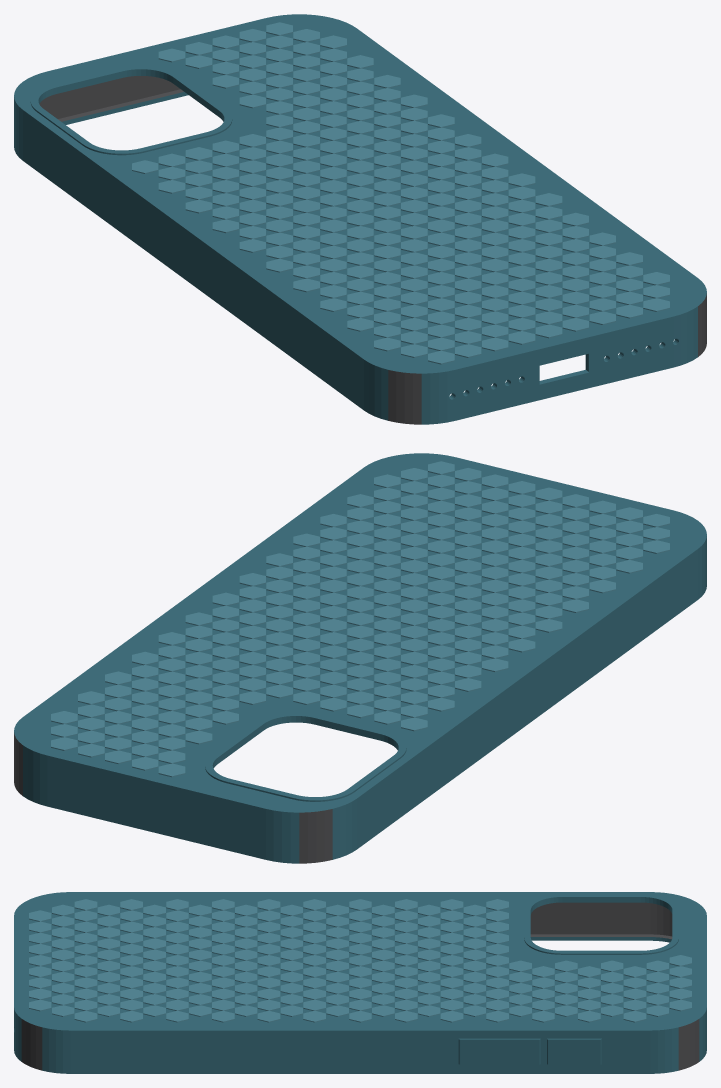
File: kilif-budget-altigen-okyanus.glb
The picture shows the model from 3 angles, top to bottom: view 1: azimuth 30°, elevation 25°; view 2: azimuth 150°, elevation 25°; view 3: azimuth 270°, elevation 25°; orthographic projection. The views are drawn at different scales.
Parts seen in each view (by area): view 1: Kilif; view 2: Kilif; view 3: Kilif.
Boxes of the visible parts, bbox=[...] form: Kilif: bbox=[14, 14, 706, 424]; Kilif: bbox=[14, 453, 706, 863]; Kilif: bbox=[14, 892, 706, 1073].
Size of the model in its own units: 0.0799 by 0.012 by 0.1679.
